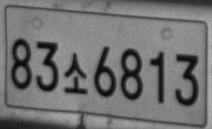1: (148, 50, 172, 103)
3: (174, 53, 199, 106), (35, 40, 59, 92)
6: (92, 45, 117, 97)
8: (9, 37, 33, 90), (119, 48, 143, 100)
소: (63, 52, 88, 94)
